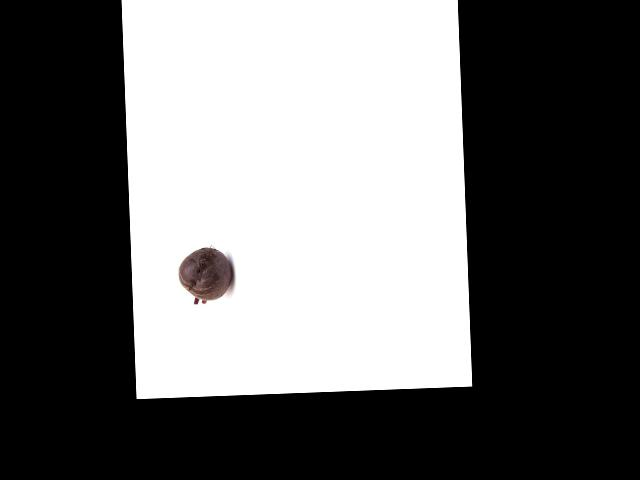beet: (177, 246, 234, 304)
